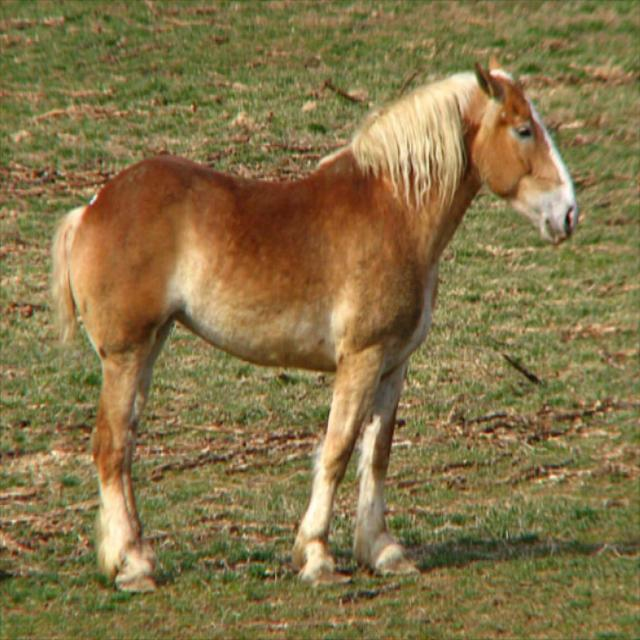Horse: (51, 55, 578, 597)
